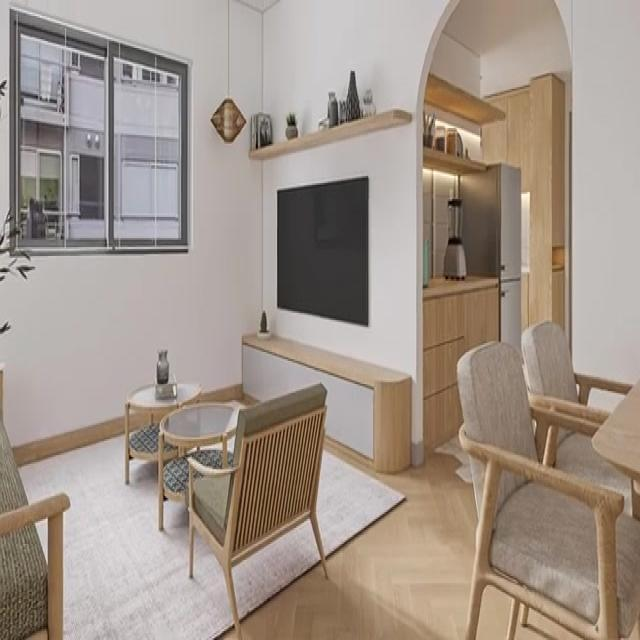obstacle: (455, 340, 639, 638), (185, 381, 329, 638), (0, 361, 70, 638), (458, 160, 522, 357)
